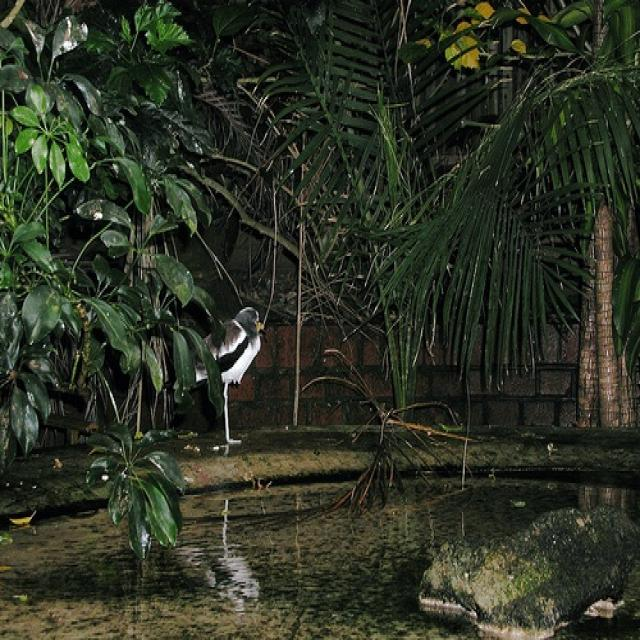bird: (192, 306, 265, 446)
